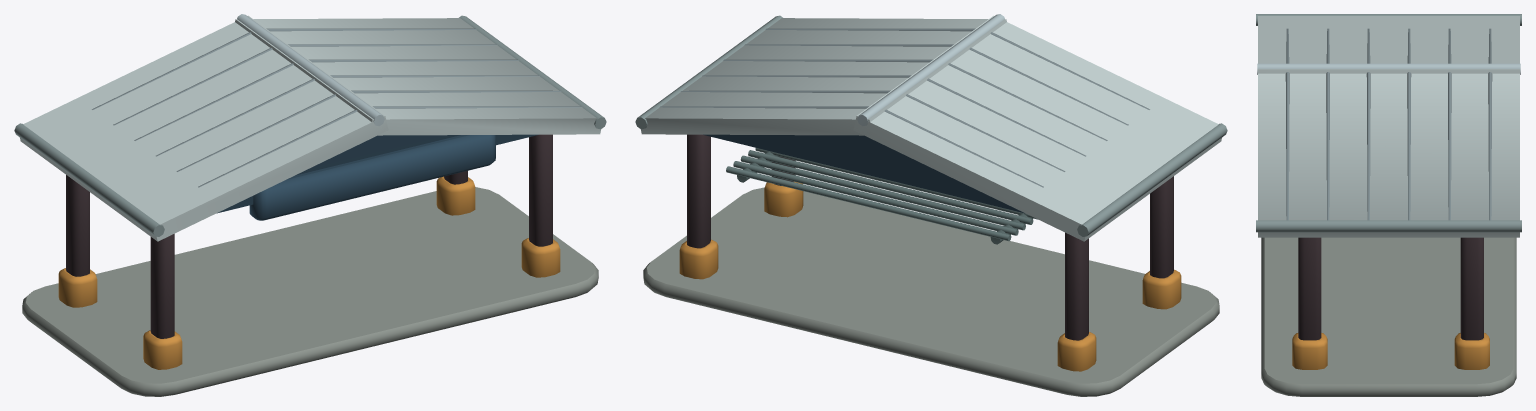
The model's file is alpine_parking.glb.
The picture shows the model from 3 angles, left to right: view 1: azimuth 30°, elevation 25°; view 2: azimuth 150°, elevation 25°; view 3: azimuth 270°, elevation 25°; orthographic projection. The views are drawn at different scales.
Parts seen in each view (by area): view 1: Parking; view 2: Parking; view 3: Parking.
Part boxes in pixels (x1,y1,x2,y2): Parking: (14, 14, 606, 396); Parking: (635, 14, 1227, 396); Parking: (1256, 14, 1521, 396).
Bounding box in the file's own units: 8.62 × 4.06 × 4.37.
